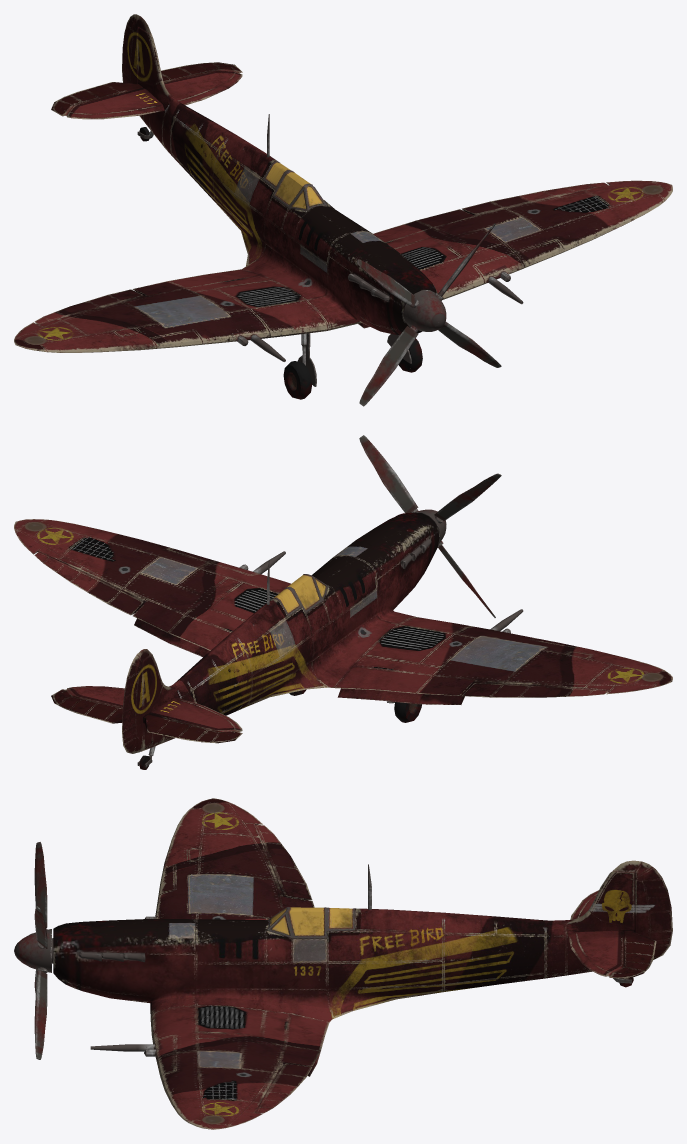
File: airplane.glb
3 renders of one model, top to bottom at view 1: azimuth 30°, elevation 25°; view 2: azimuth 150°, elevation 25°; view 3: azimuth 270°, elevation 25°, orthographic. The views are drawn at different scales.
Visible parts, largest first — view 1: LOW_POLY_Material #38_0; view 2: LOW_POLY_Material #38_0; view 3: LOW_POLY_Material #38_0.
Part boxes in pixels (x1,y1,x2,y2): LOW_POLY_Material #38_0: (14,14,672,406); LOW_POLY_Material #38_0: (14,435,672,769); LOW_POLY_Material #38_0: (14,798,672,1129).
Size of the model in its own units: 208 by 64.49 by 175.
1 material, 1 textured.
